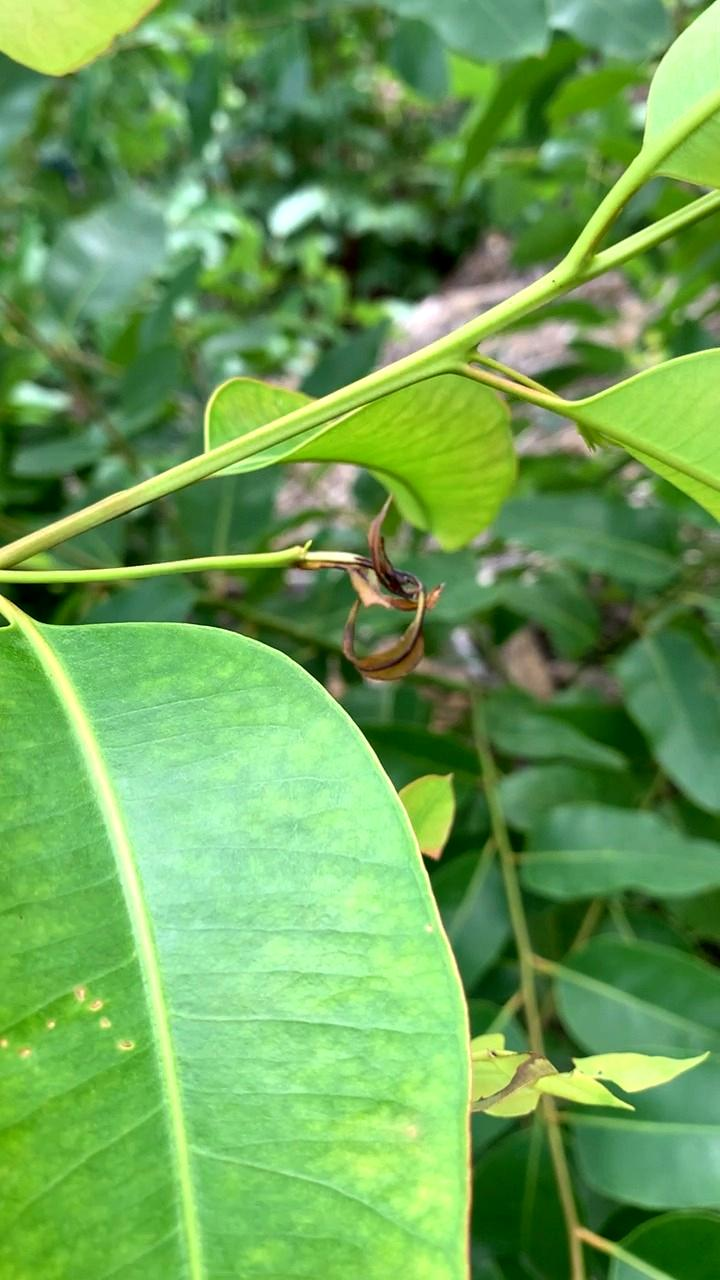Helopeltis-Withered Sprout: (323, 510, 449, 695)
